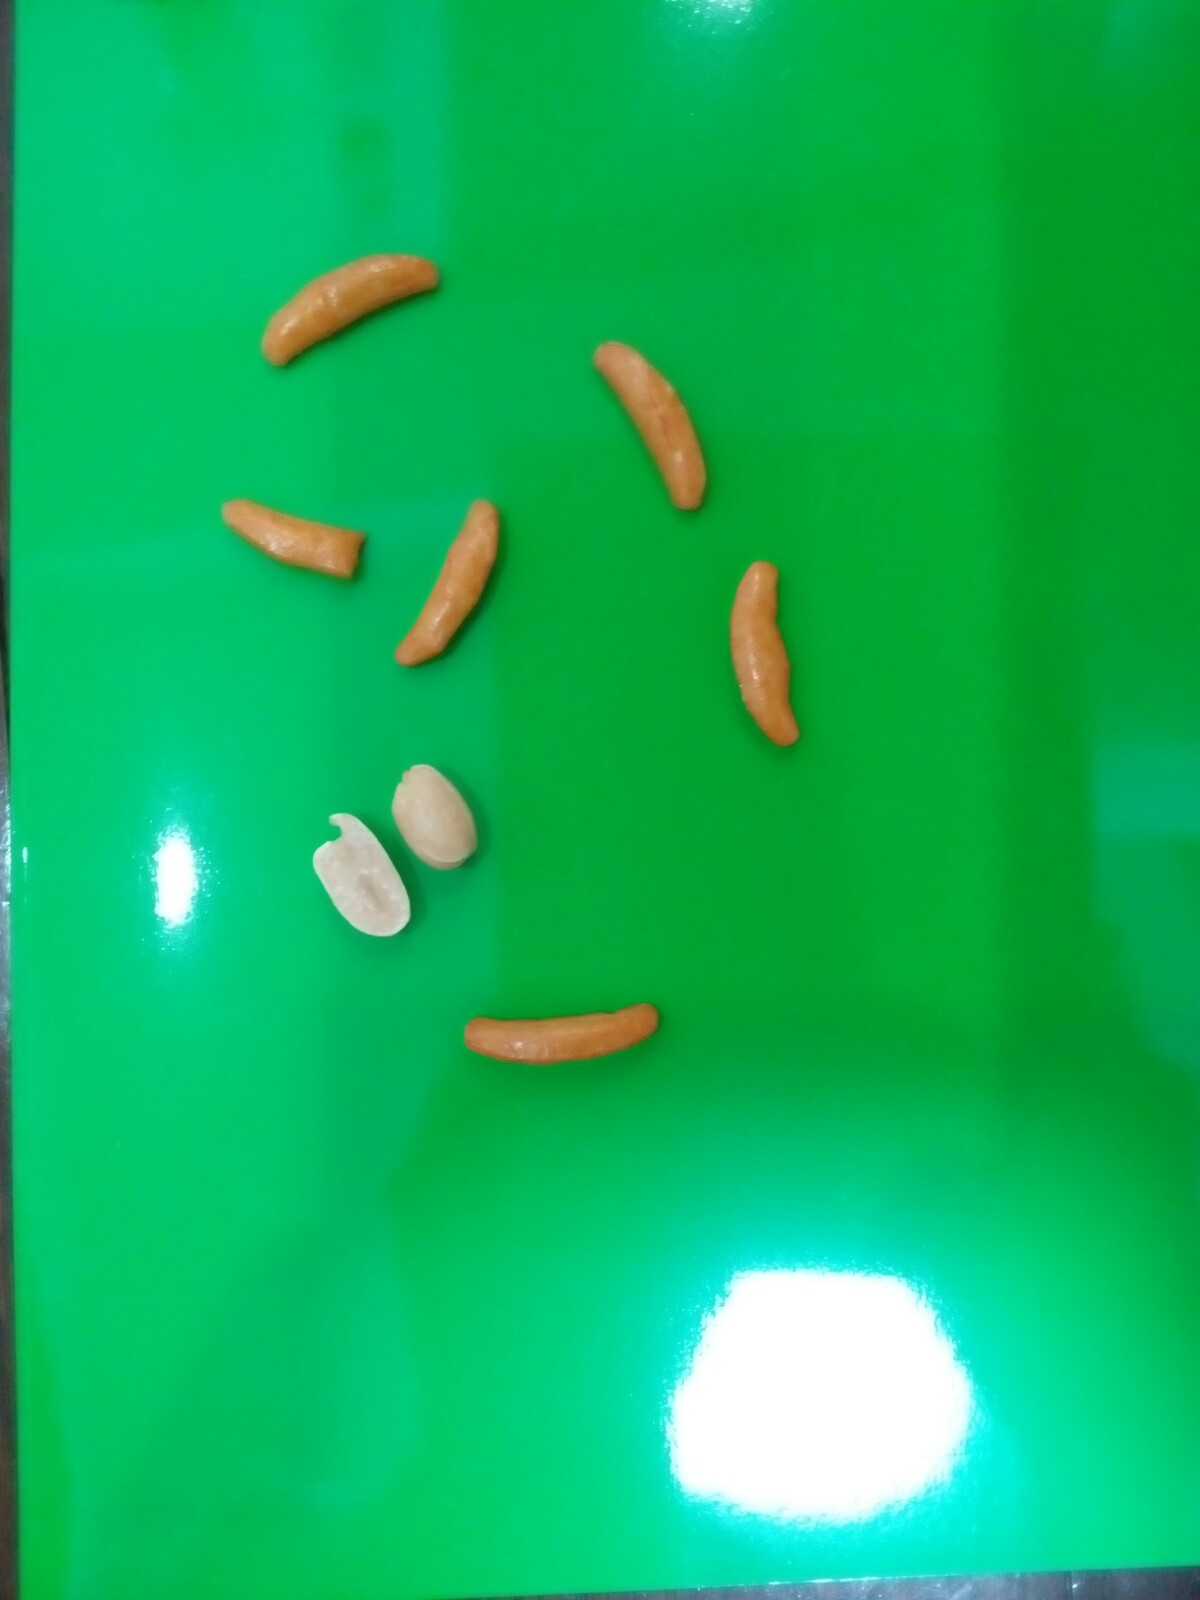peanut: (301, 799, 416, 946), (388, 761, 487, 874)
